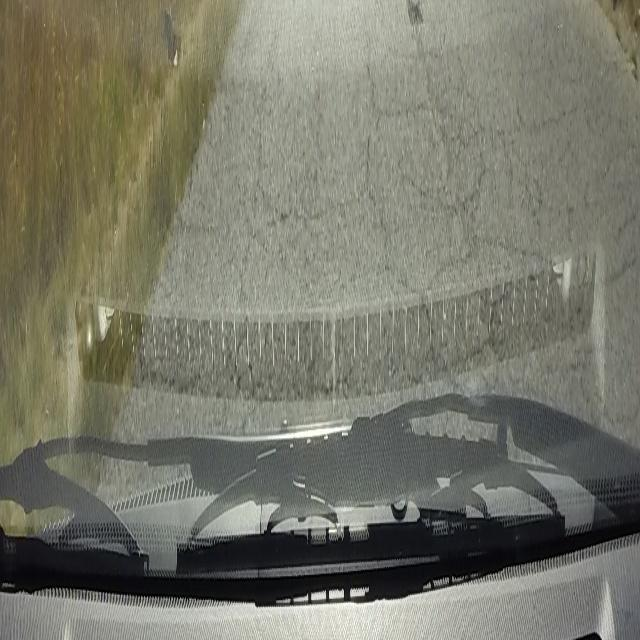pothole: (407, 0, 423, 35)
